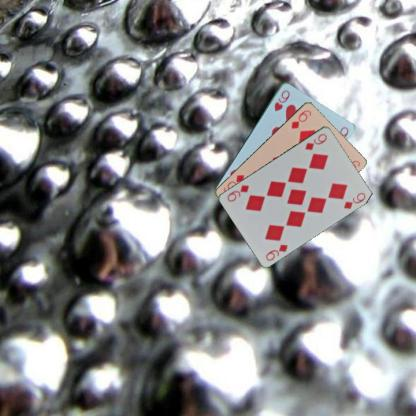6d: (288, 107, 313, 130)
9d: (302, 130, 328, 152), (263, 242, 289, 262)
9h: (272, 87, 291, 113)
